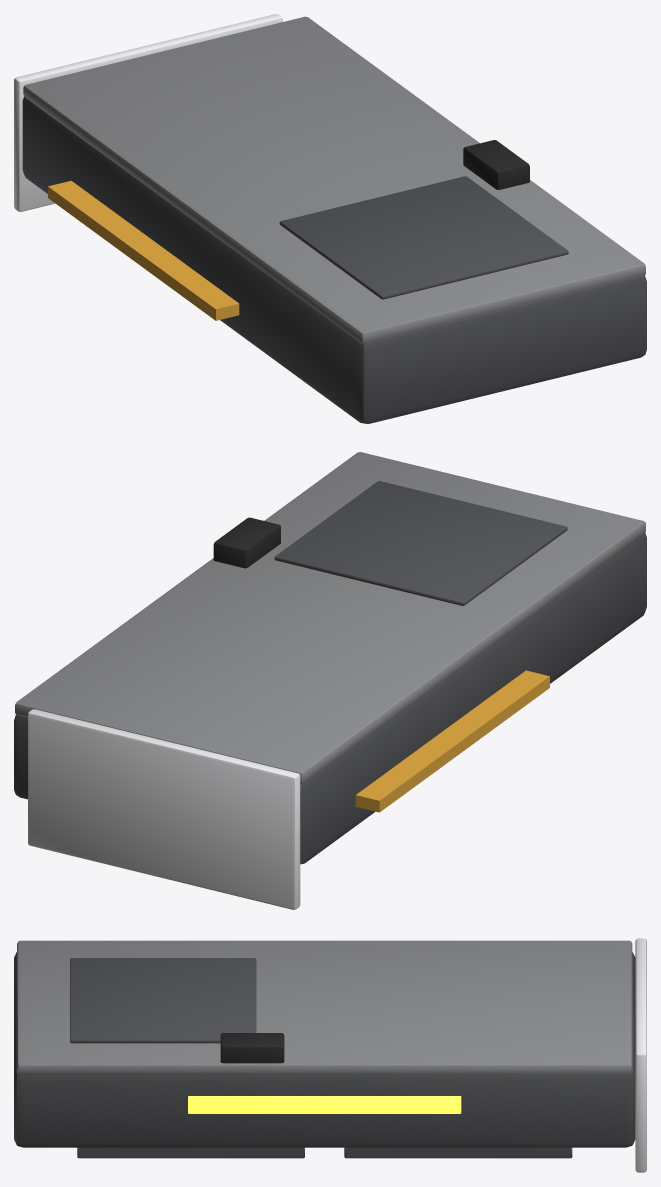
Rendered from gpu_rtx5060.glb.
3 views of the same model, one above another, from view 1: azimuth 30°, elevation 25°; view 2: azimuth 150°, elevation 25°; view 3: azimuth 270°, elevation 25° (orthographic). The views are drawn at different scales.
Parts seen in each view (by area): view 1: RTX5060_Body; view 2: RTX5060_Body; view 3: RTX5060_Body, RGB_RTX5060_Bar, RTX5060_F1_Frame, RTX5060_F0_Frame.
Boxes of the visible parts, x1,y1,x2,y2 form: RTX5060_Body: [14, 14, 646, 423]; RTX5060_Body: [14, 452, 646, 909]; RTX5060_Body: [14, 938, 646, 1172]; RGB_RTX5060_Bar: [188, 1096, 461, 1113]; RTX5060_F1_Frame: [344, 1147, 572, 1158]; RTX5060_F0_Frame: [77, 1147, 304, 1158].
Bounding box in the file's own units: 1.15 × 0.513 × 2.19.
